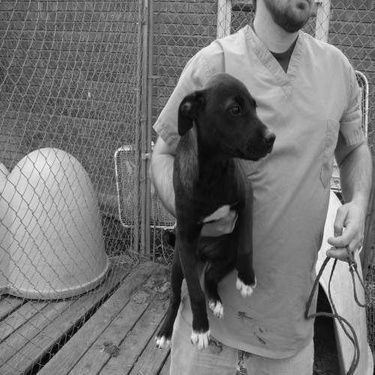dog: (146, 67, 279, 354)
